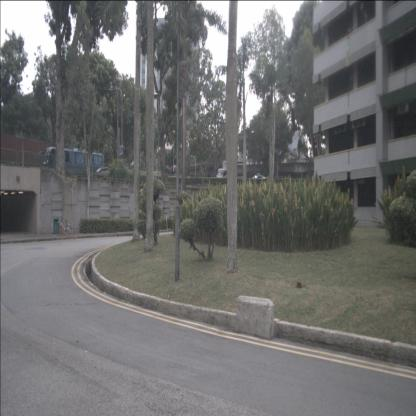vehicle-bicycle: (56, 216, 72, 235)
vehicle-bus-rigid: (42, 146, 104, 180)
vehicle-car: (95, 167, 114, 180), (251, 174, 268, 186)
vehicle-truck: (216, 160, 244, 187)
